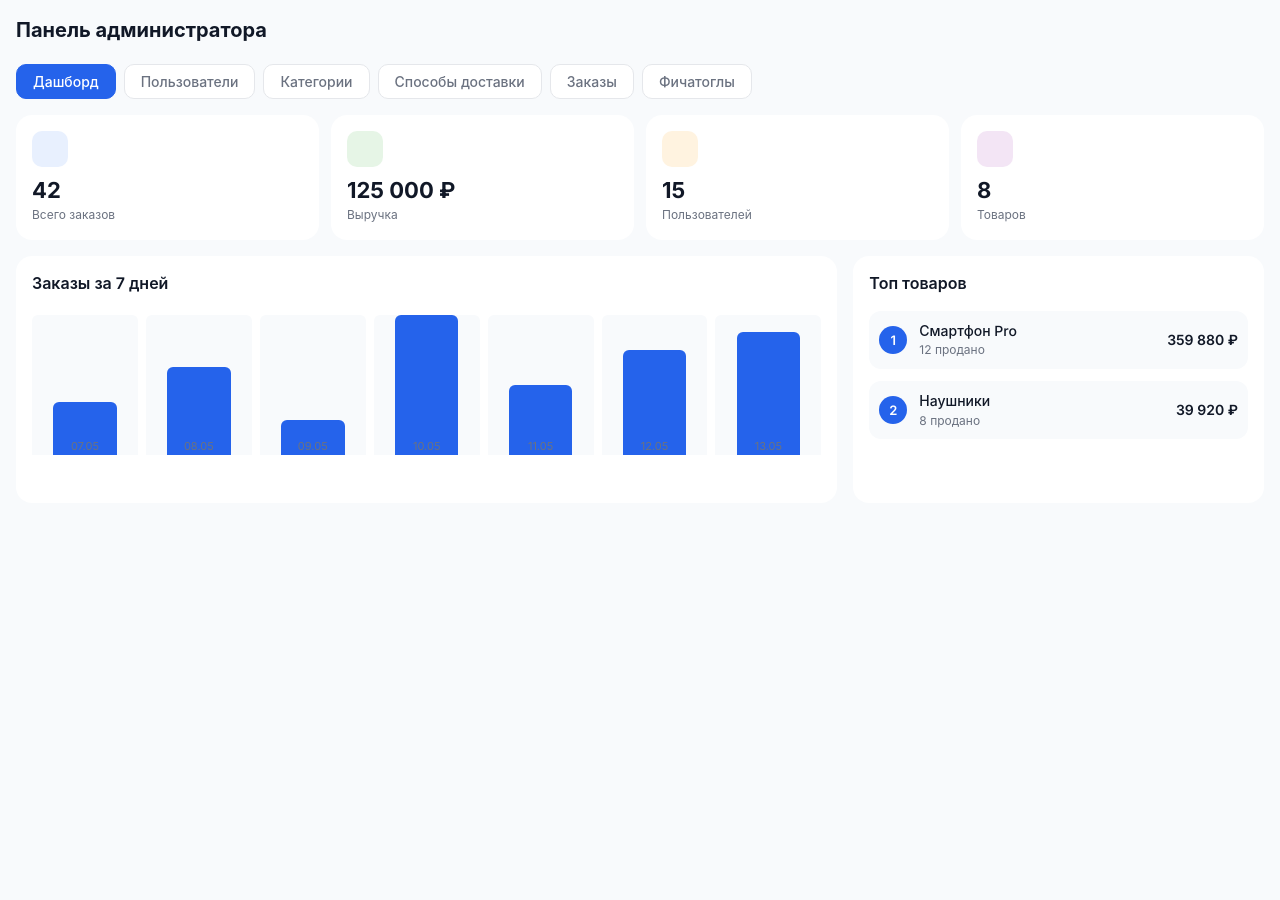
Scenario: Admin.vue › открывает модал создания категории
The width and height of the screenshot is (1280, 900).
Click the button with test id "admin-section-tab-categories" at (316, 82), box [263,64,370,99]
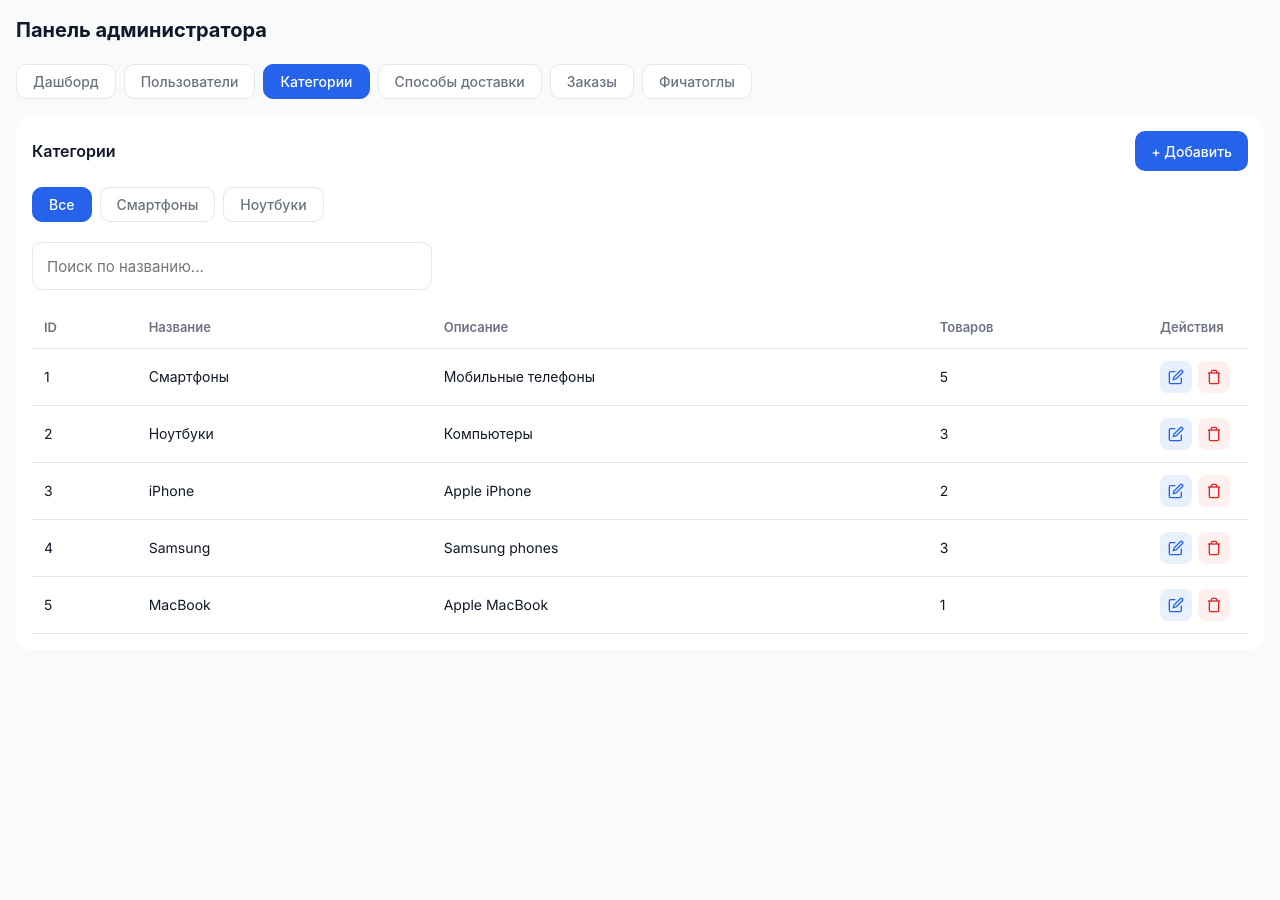
Expected: the button with test id "add-category-btn" is shown
Expected: the button with test id "add-category-btn" shows "Добавить"
Click the button with test id "add-category-btn" at (1192, 151), box [1135,131,1248,171]
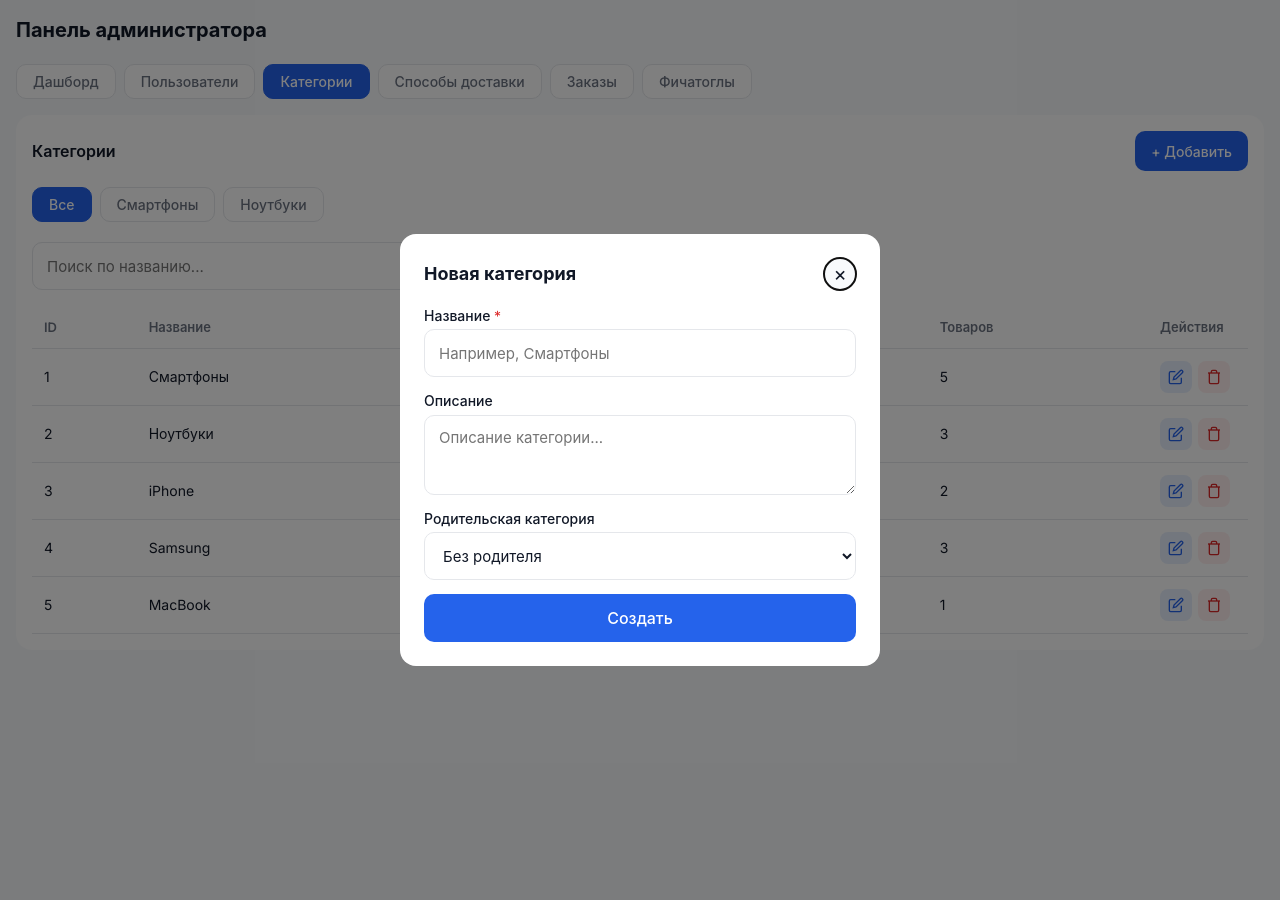
Expected: the text "Новая категория" is shown, [424,261,576,286]
Expected: the dropdown with test id "category-parent-select" is shown, [424,532,856,580]
